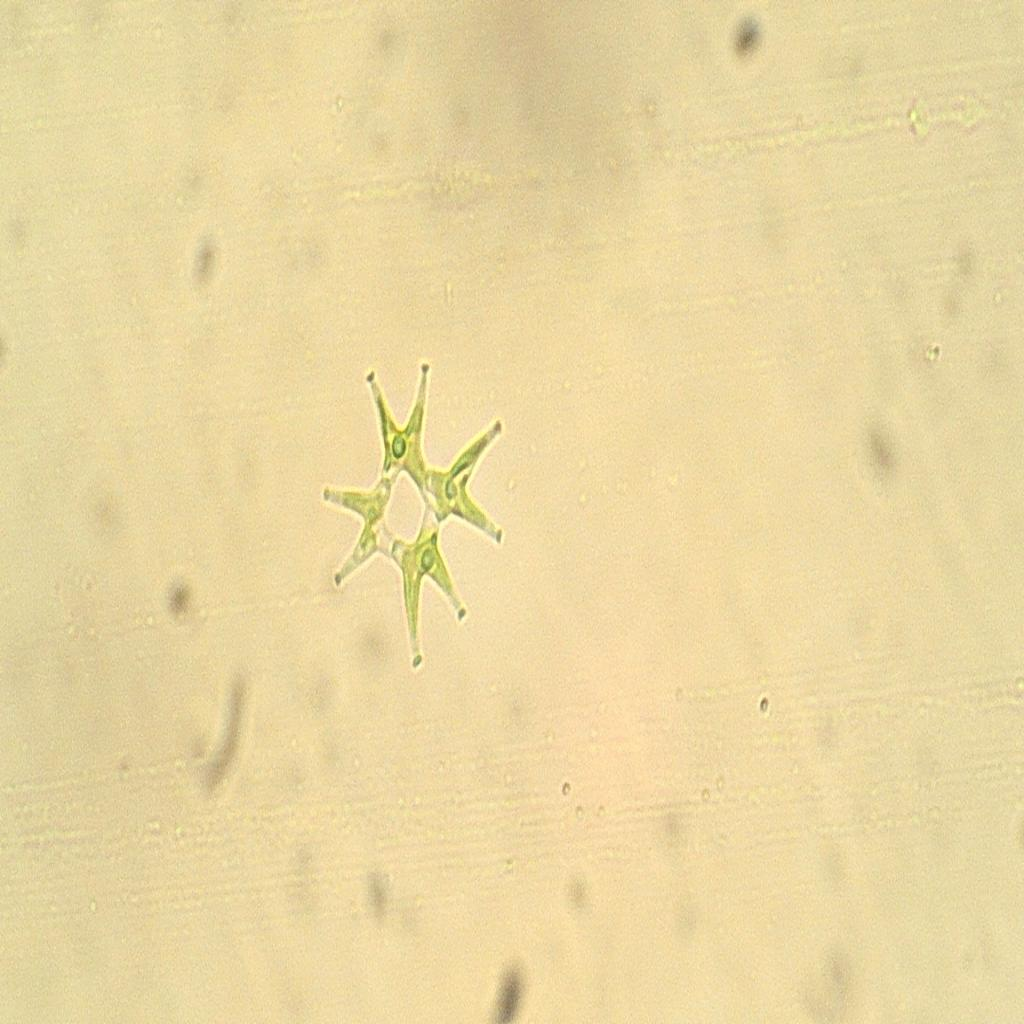Pediastrum_CF: (298, 328, 540, 695)
